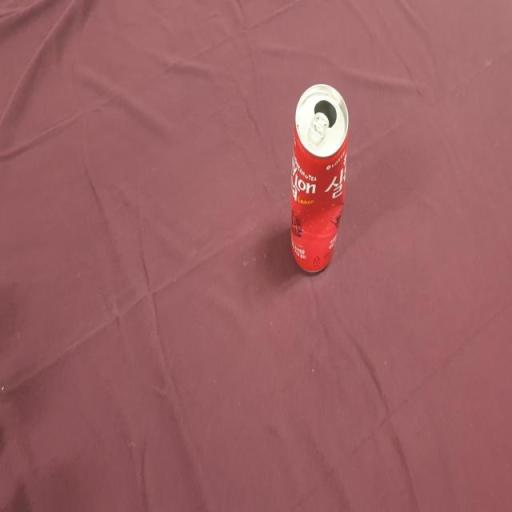metal: (270, 58, 368, 306)
